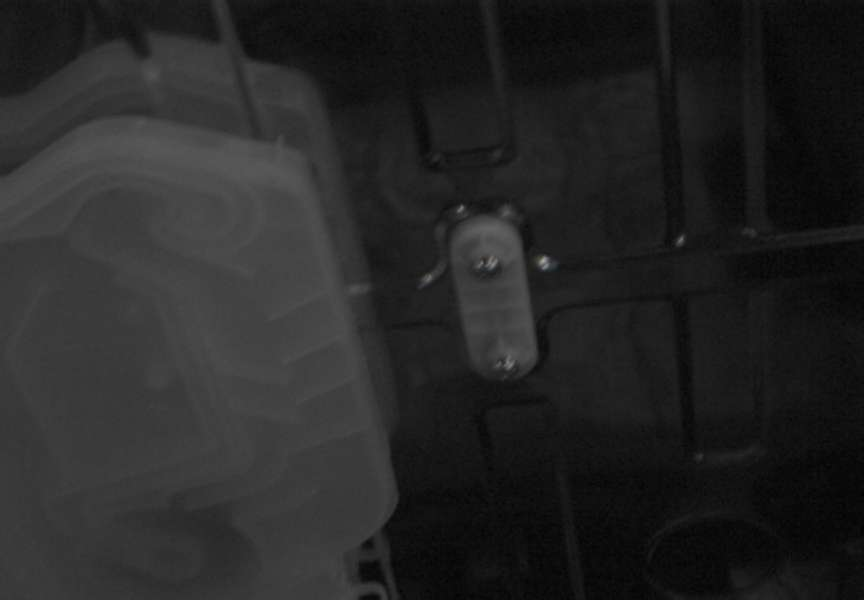screw: (491, 355, 520, 381), (471, 255, 502, 278)
